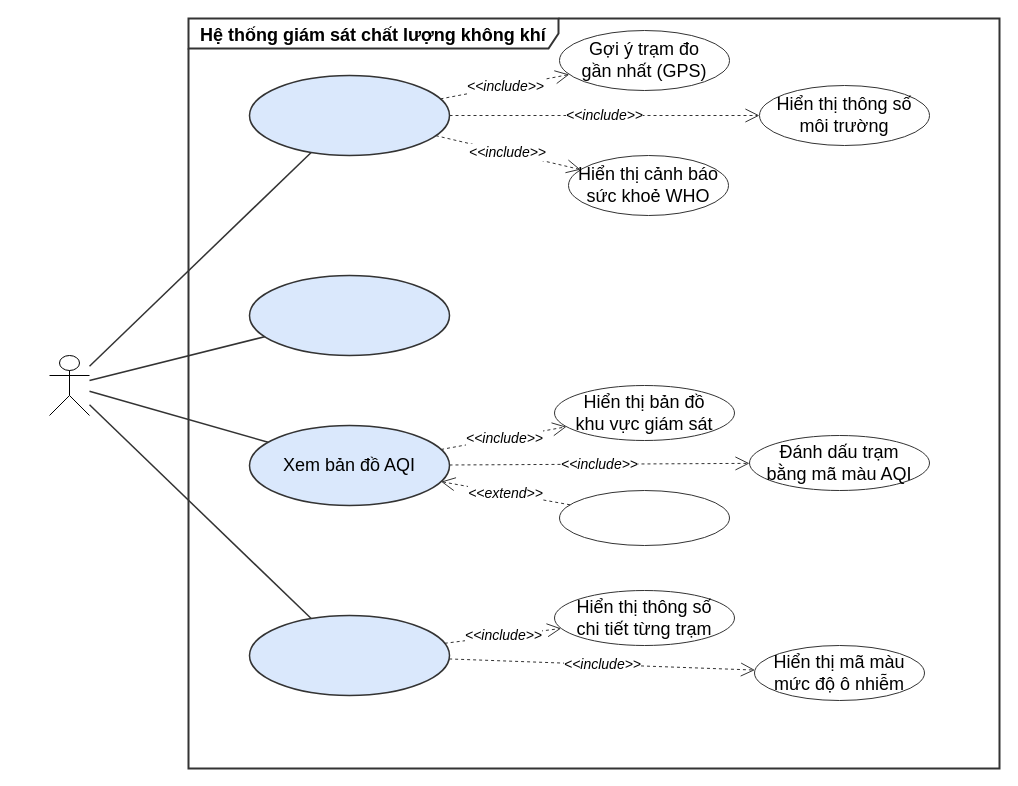
Image size: 1018x786. Some labels were removed from this diagram. Here are the shapes that lost their labels. From the top down, the centre of each, then its label:
pixel 349 115: Xem dashboard chất lượng không khí
pixel 349 315: Xem lịch sử dữ liệu
pixel 69 385: Người dùng
pixel 644 518: Xem thông tin chi tiết trạm
pixel 349 655: Xem xếp hạng ô nhiễm
